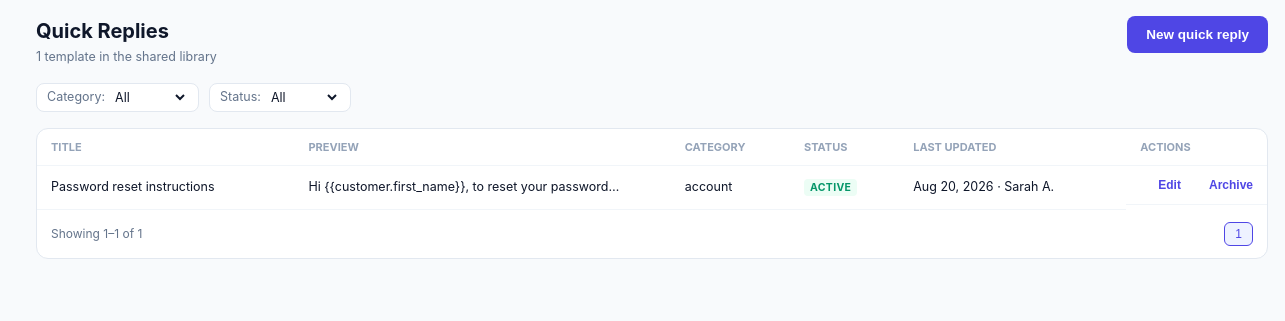
Test: QuickRepliesPage › writes category and status filters to URL search params, not component state
Check: the text "Password reset instructions" is shown, box top-left (37, 166), bottom-right (294, 209)
Select "Archived" in the dropdown labelled "Status:" at coordinates (304, 97), box top-left (267, 89), bottom-right (340, 106)
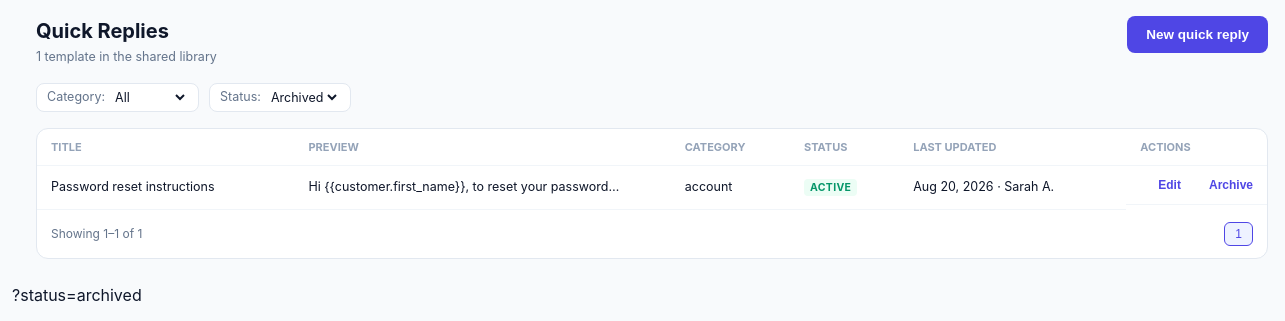
Check: the text with test id "location-search" shows "status=archived", box top-left (12, 285), bottom-right (142, 305)
